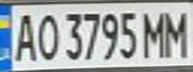3: (60, 8, 84, 61)
5: (118, 8, 142, 60)
7: (78, 8, 103, 61)
9: (100, 9, 121, 61)
A: (9, 9, 39, 62)
M: (160, 7, 193, 58), (139, 7, 169, 58)
O: (33, 9, 60, 62)
